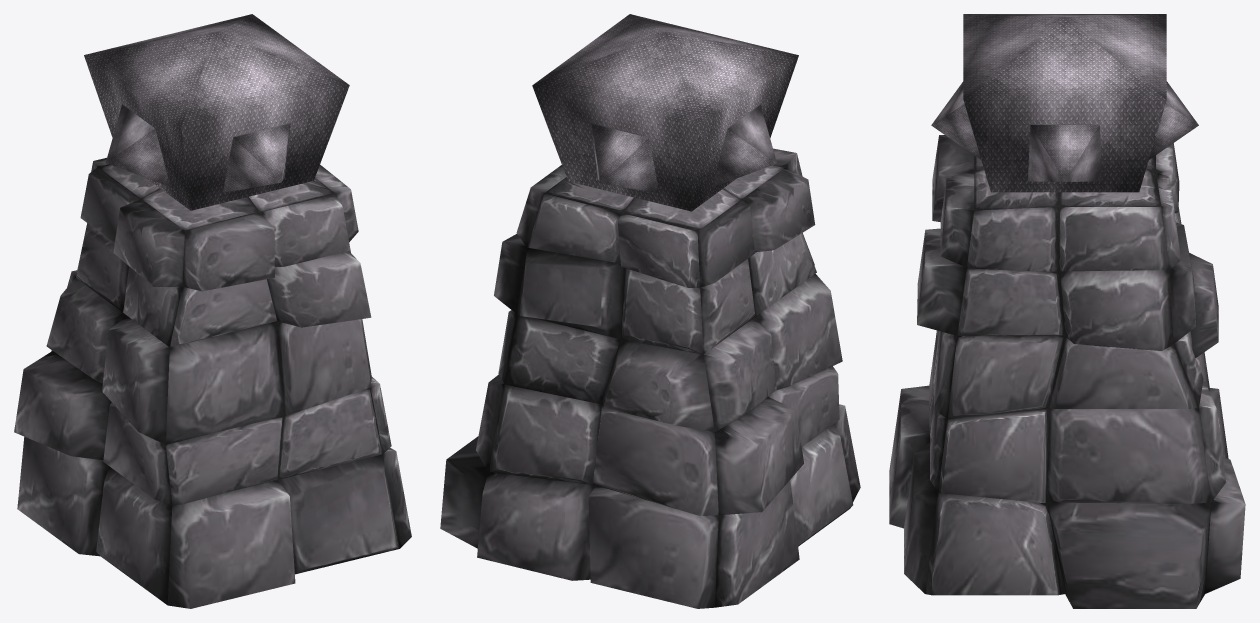
Rendered from Muralha.fbx.
3 renders of one model, left to right at view 1: azimuth 30°, elevation 25°; view 2: azimuth 150°, elevation 25°; view 3: azimuth 270°, elevation 25°, orthographic. The views are drawn at different scales.
Parts seen in each view (by area): view 1: Cube; view 2: Cube; view 3: Cube.
Part boxes in pixels (x1,y1,x2,y2): Cube: (14,14,411,608); Cube: (440,14,860,608); Cube: (889,14,1245,608).
Size of the model in its own units: 4.17 by 6.34 by 3.96.
Materials: 2 (2 with a texture image).
